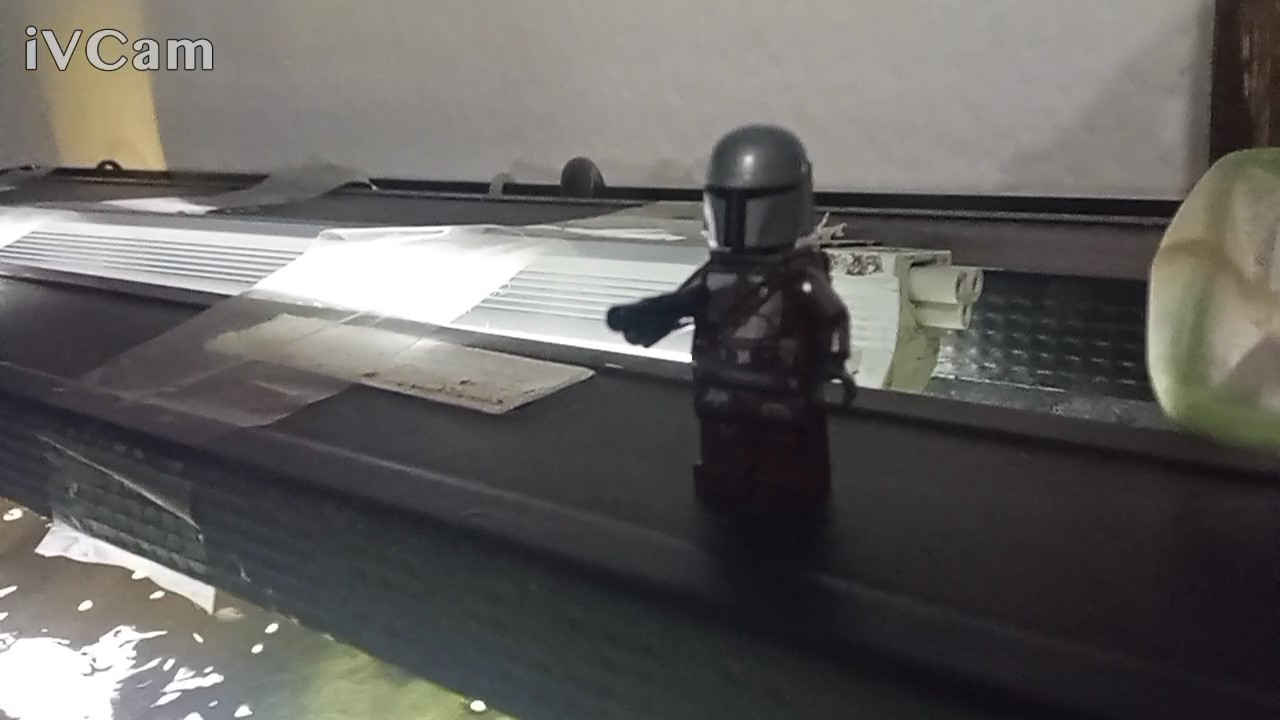mandalorian: (583, 105, 931, 545)
